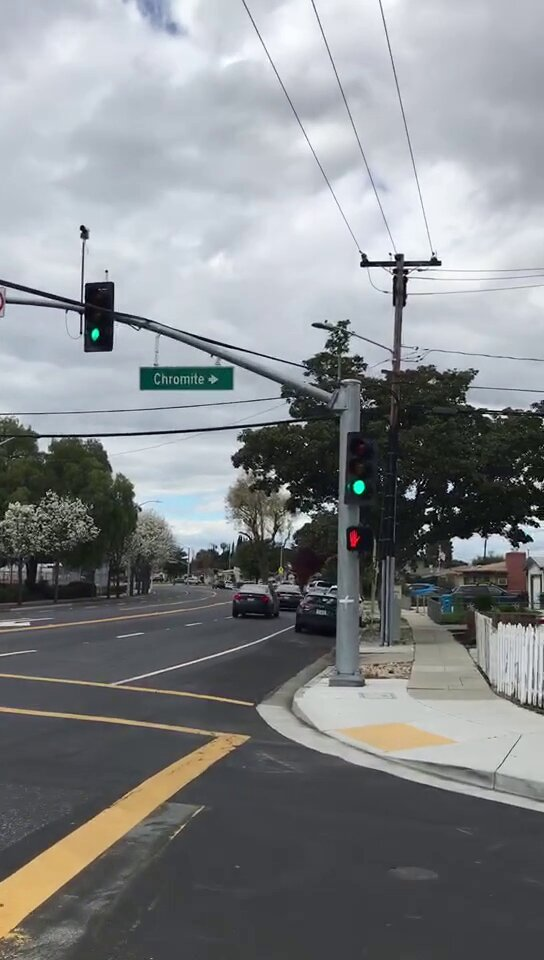green_light: (346, 434, 374, 506), (86, 284, 113, 350)
